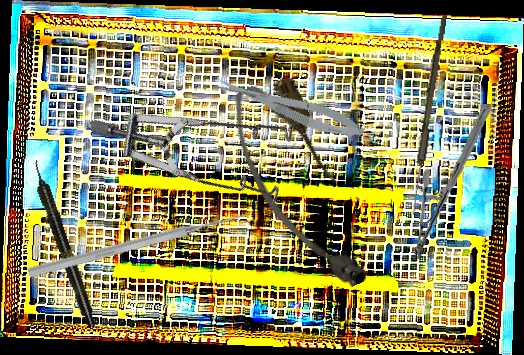Cannula: (219, 69, 381, 306)
Handpiece: (27, 158, 100, 330)
Micro Scissor: (211, 66, 368, 147)
Needle Holder: (402, 103, 502, 260)
Pusher: (26, 208, 247, 281)
Speculum: (86, 22, 322, 258)
Surgical Spoon: (408, 14, 448, 216)
